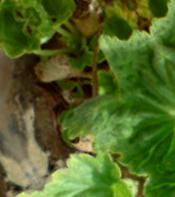Tomato leaf mosaic virus: (26, 15, 175, 197), (35, 135, 136, 197)
